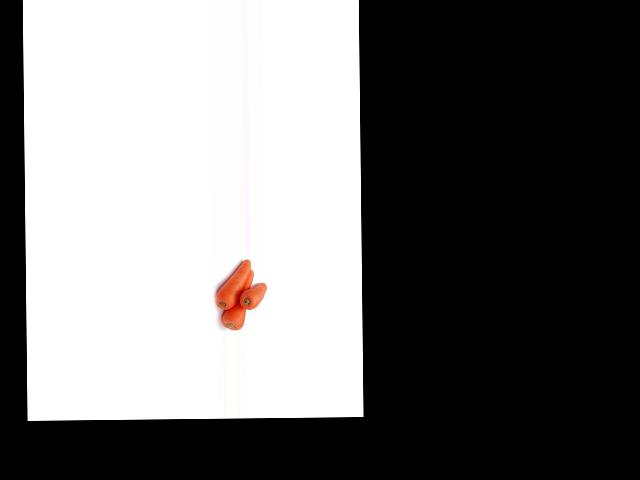carrot: (220, 263, 255, 331)
